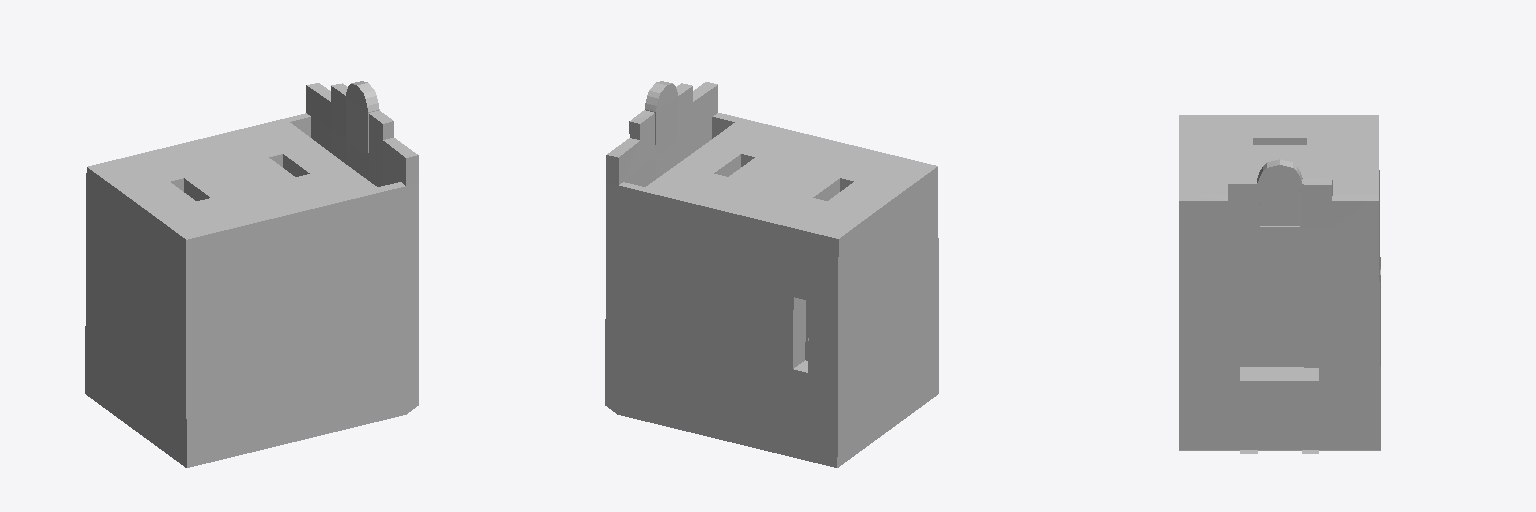
The model's file is Building.obj.
3 renders of one model, left to right at view 1: azimuth 30°, elevation 25°; view 2: azimuth 150°, elevation 25°; view 3: azimuth 270°, elevation 25°, orthographic.
Visible parts, largest first — view 1: pCube1; view 2: pCube1; view 3: pCube1.
Part boxes in pixels (x1,y1,x2,y2): pCube1: (85, 81, 418, 467); pCube1: (605, 81, 938, 467); pCube1: (1179, 115, 1380, 453).
Bounding box in the file's own units: 35.7 × 41.4 × 26.11.